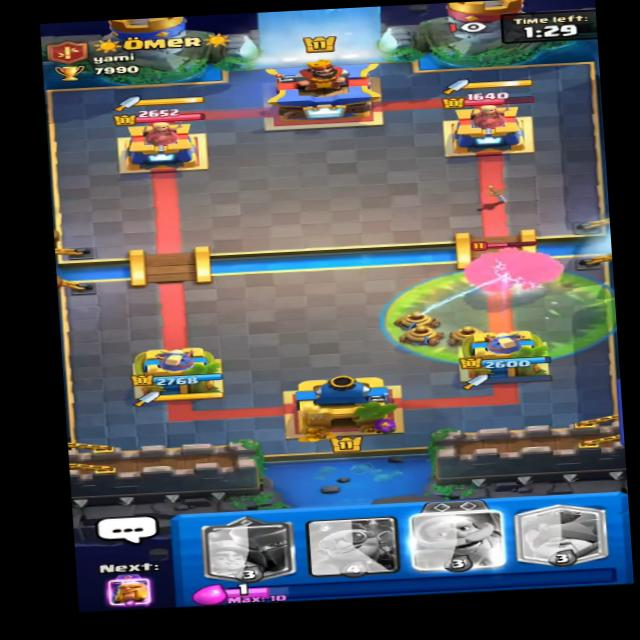royal-giant: (460, 237, 574, 297)
